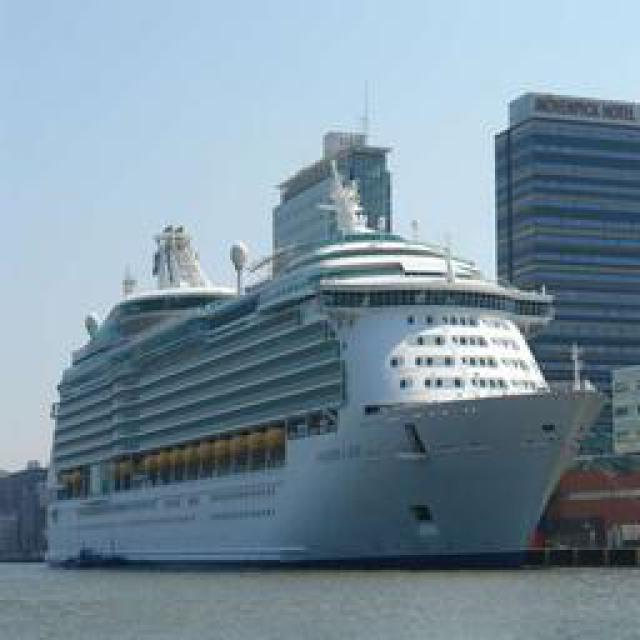Ship: (44, 131, 617, 571)
